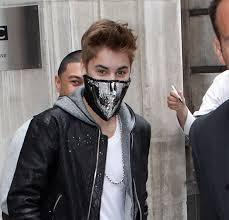NONE: (63, 70, 97, 105)
OK: (87, 61, 133, 107)
